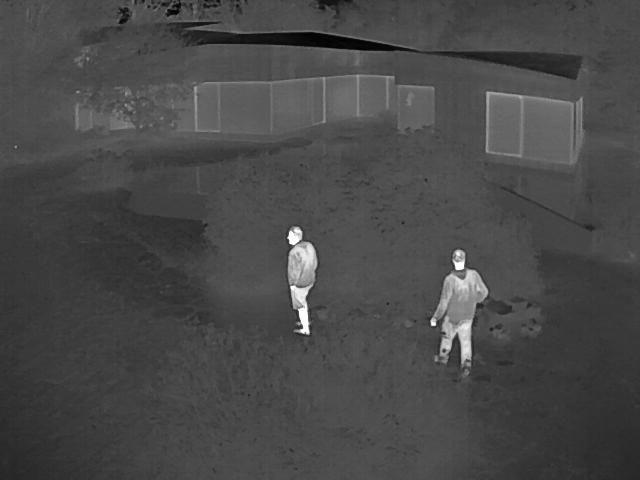person: (433, 248, 490, 378), (287, 224, 320, 339)
